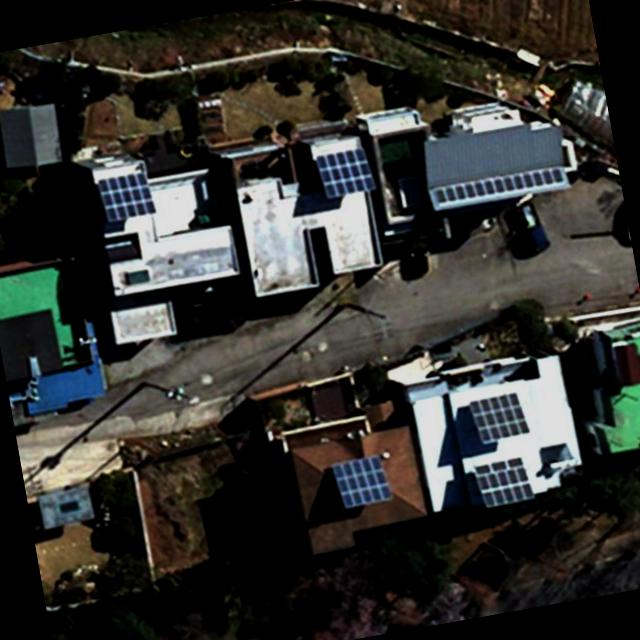solar: (429, 162, 568, 208), (327, 451, 392, 511), (467, 388, 530, 449), (311, 144, 378, 200), (470, 454, 534, 511), (96, 168, 157, 224)
